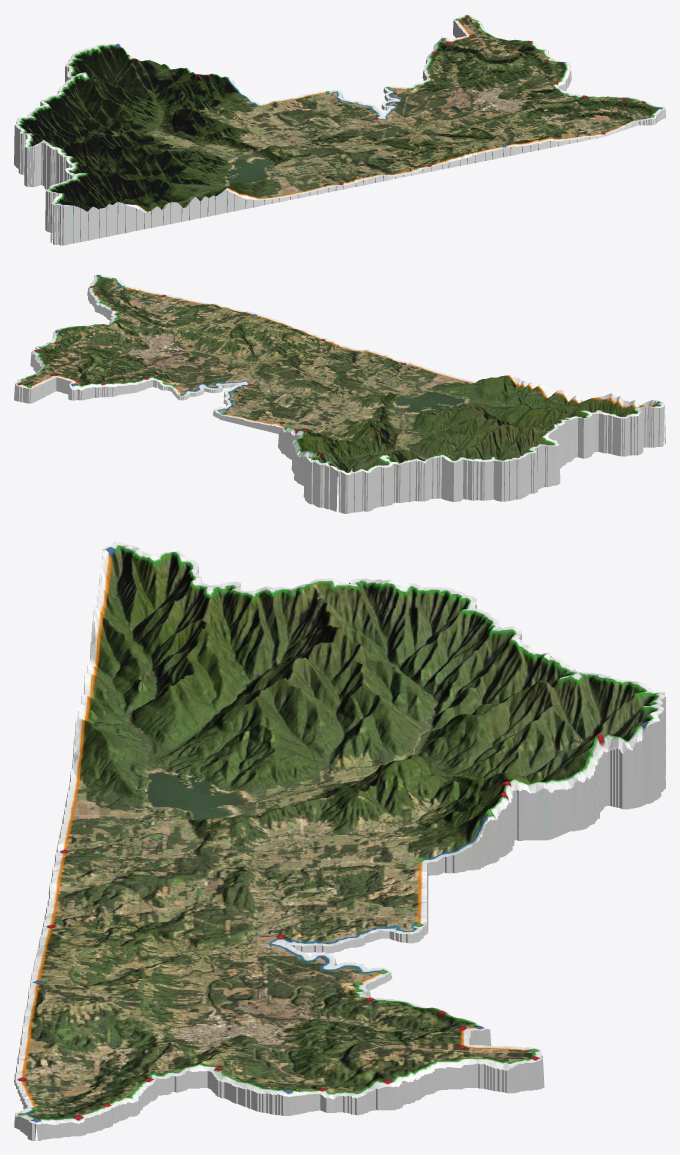
The picture shows the model from 3 angles, top to bottom: view 1: azimuth 30°, elevation 25°; view 2: azimuth 150°, elevation 25°; view 3: azimuth 270°, elevation 25°; orthographic projection. The views are drawn at different scales.
Size of the model in its own units: 1 by 0.072 by 0.5225.
Materials: 1 (1 with a texture image).
